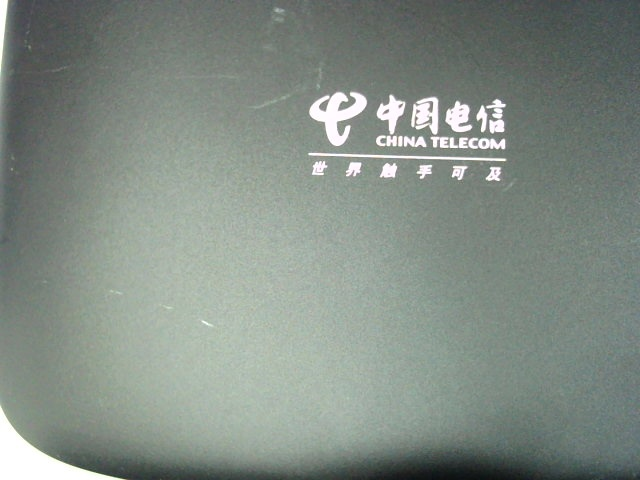AB_ChinaTelecom: (298, 90, 513, 184)
